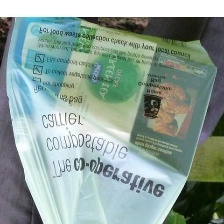plastic_bag: (2, 14, 219, 224)
